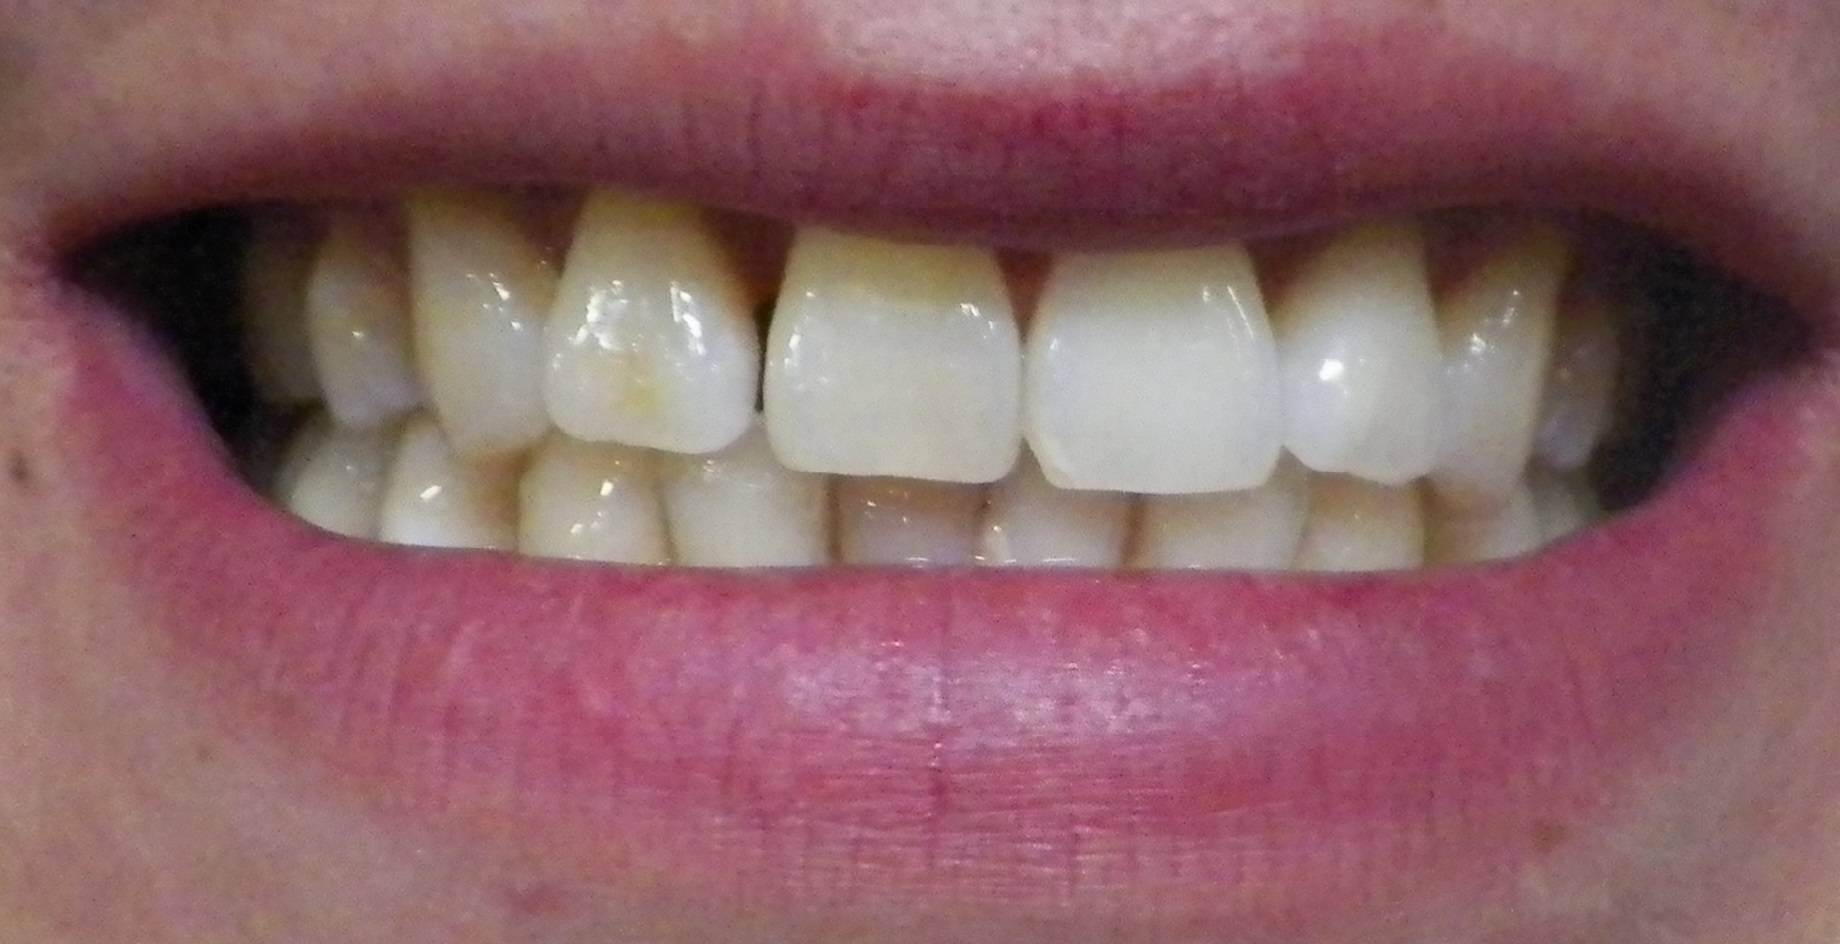boca: (256, 228, 1615, 570)
